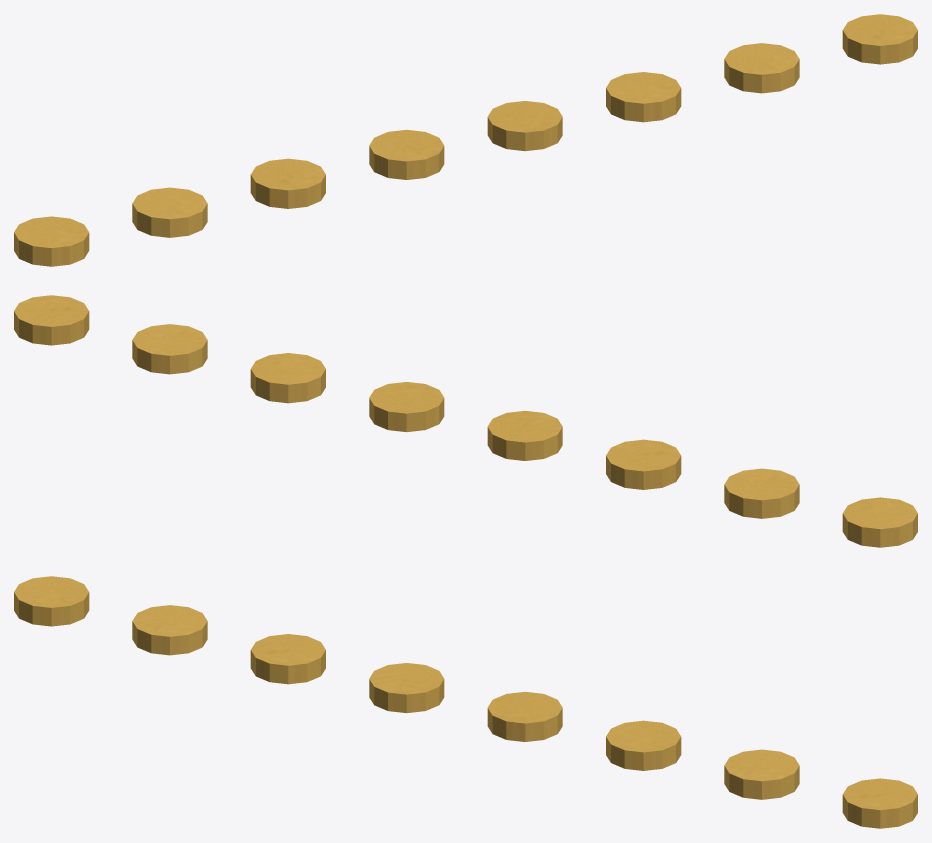
Rendered from 398_L125_TP2_DiagnosticArray.obj.
The picture shows the model from 3 angles, top to bottom: view 1: azimuth 30°, elevation 25°; view 2: azimuth 150°, elevation 25°; view 3: azimuth 330°, elevation 25°; orthographic projection.
Parts seen in each view (by area): view 1: 398_L125_TP2_DiagnosticArray__PSMAT__gold; view 2: 398_L125_TP2_DiagnosticArray__PSMAT__gold; view 3: 398_L125_TP2_DiagnosticArray__PSMAT__gold.
Boxes of the visible parts, <box> form: 398_L125_TP2_DiagnosticArray__PSMAT__gold: <box>14,14,917,266</box>; 398_L125_TP2_DiagnosticArray__PSMAT__gold: <box>14,295,917,547</box>; 398_L125_TP2_DiagnosticArray__PSMAT__gold: <box>14,576,917,828</box>.
Size of the model in its own units: 0.0302 by 0.0006 by 0.0022.
Materials: 1 (1 with a texture image).
